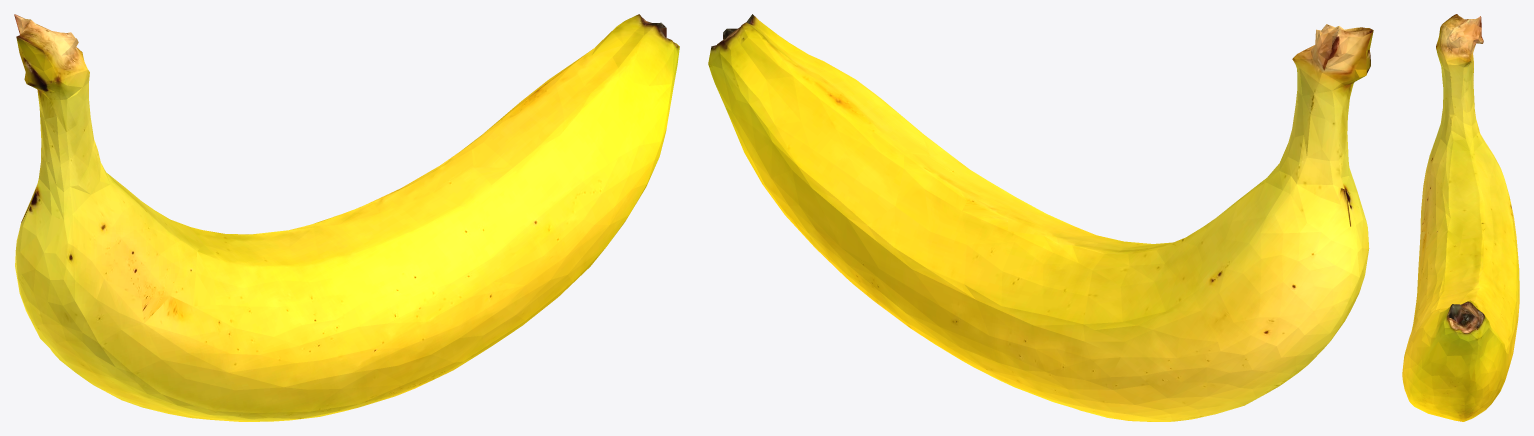
File: banana-v1-transformed.glb
The picture shows the model from 3 angles, left to right: view 1: azimuth 30°, elevation 25°; view 2: azimuth 150°, elevation 25°; view 3: azimuth 270°, elevation 25°; orthographic projection. The views are drawn at different scales.
Parts seen in each view (by area): view 1: banana; view 2: banana; view 3: banana.
Part boxes in pixels (x1=…): banana: x1=14, y1=14, x2=679, y2=421; banana: x1=708, y1=14, x2=1373, y2=421; banana: x1=1402, y1=14, x2=1519, y2=421.
Bounding box in the file's own units: 6.79 × 4.43 × 1.62.
1 material, 1 textured.
